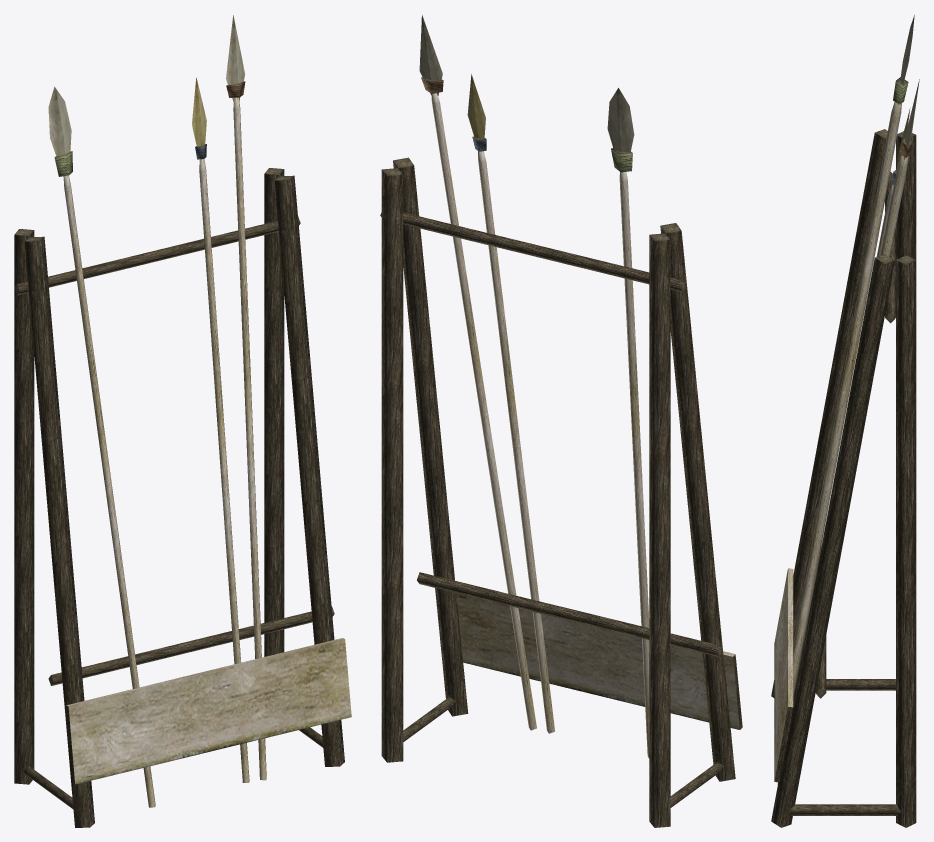
Rendered from thm_dant_rack_spears_l2.fbx.
3 views of the same model, side by side, from view 1: azimuth 30°, elevation 25°; view 2: azimuth 150°, elevation 25°; view 3: azimuth 270°, elevation 25° (orthographic). The views are drawn at different scales.
Visible parts, largest first — view 1: mesh_node; view 2: mesh_node; view 3: mesh_node.
Part boxes in pixels (left/top/right/bottom): mesh_node: left=14, top=15, right=351, bottom=827; mesh_node: left=380, top=15, right=742, bottom=827; mesh_node: left=771, top=15, right=919, bottom=827.
Bounding box in the file's own units: 0.9659 × 2.34 × 0.4313.
